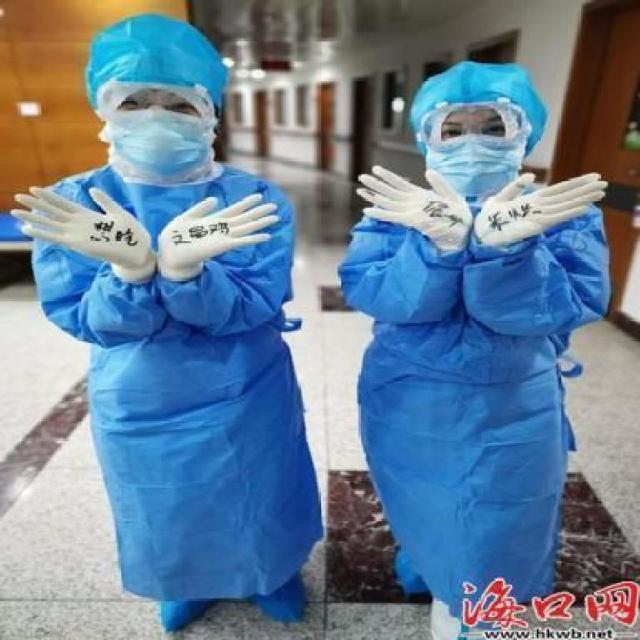face_mask: (98, 80, 211, 177), (417, 101, 515, 190)
glasses: (96, 78, 219, 136), (419, 101, 530, 150)
hand_glove: (12, 185, 154, 266), (475, 172, 611, 250), (143, 192, 285, 265), (354, 165, 472, 249)
person: (4, 27, 340, 640), (357, 58, 603, 631)
